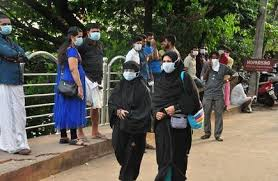mask: (162, 54, 176, 73), (121, 65, 138, 80), (1, 16, 12, 34), (72, 27, 82, 46), (89, 26, 101, 41), (134, 37, 143, 52), (210, 53, 219, 64), (190, 45, 197, 56)
